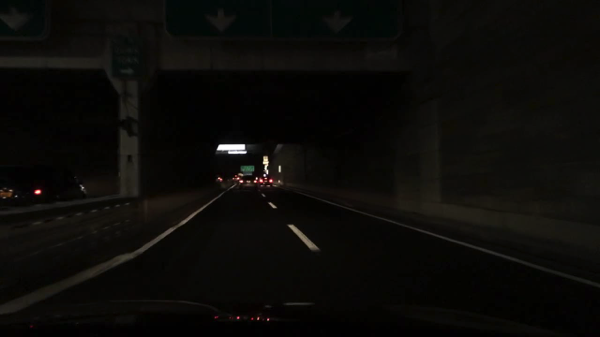car: (0, 163, 88, 209), (240, 176, 257, 191), (258, 176, 273, 186), (233, 174, 239, 181)
traffic sign: (165, 0, 405, 42), (0, 0, 49, 41), (110, 41, 145, 80), (239, 164, 256, 174)
